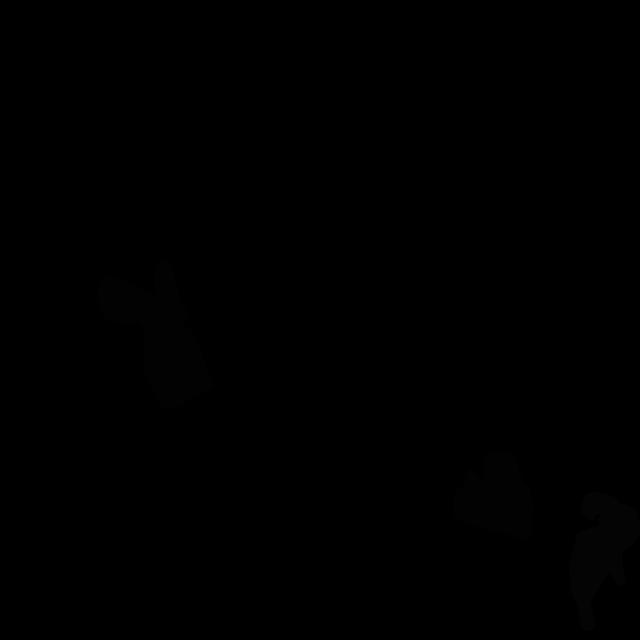cardboard: (96, 261, 214, 409), (452, 448, 534, 539)
soft_plastic: (569, 492, 640, 631)
